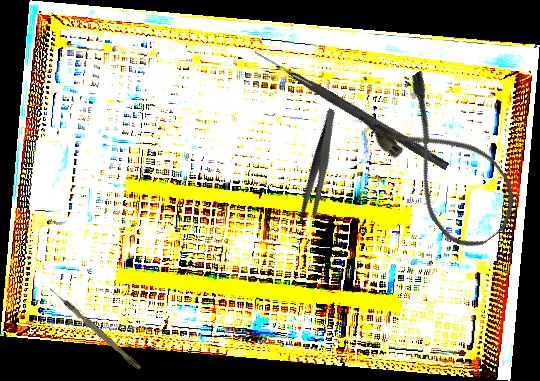Cannula: (356, 67, 531, 260)
Dressing Forceps: (276, 108, 363, 226)
Hook Surgical: (251, 48, 451, 171), (48, 285, 142, 372)
